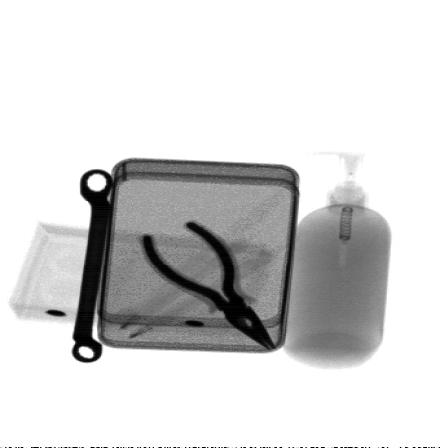Pliers: (138, 217, 282, 351)
Wrench: (69, 168, 115, 365)
